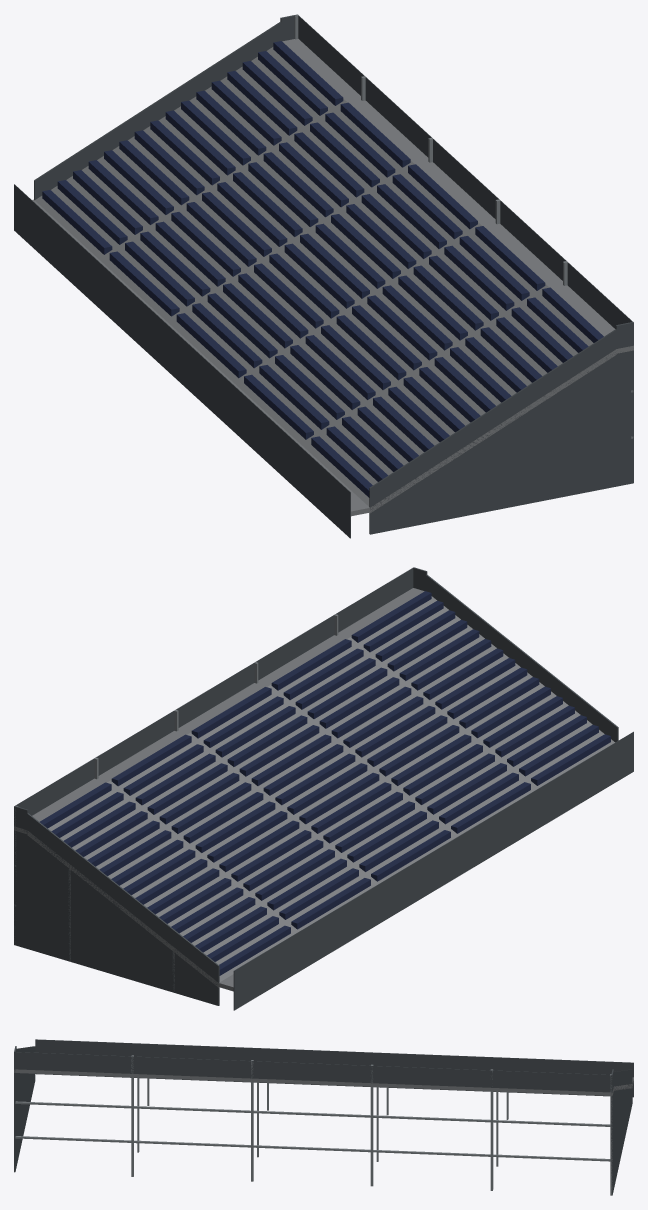
Rendered from sil_stand_copse_d.glb.
The picture shows the model from 3 angles, top to bottom: view 1: azimuth 30°, elevation 25°; view 2: azimuth 150°, elevation 25°; view 3: azimuth 270°, elevation 25°; orthographic projection. The views are drawn at different scales.
Visible parts, largest first — view 1: silverstone-copse-d; view 2: silverstone-copse-d; view 3: silverstone-copse-d.
Boxes of the visible parts, left/top/right/bottom form: silverstone-copse-d: left=14, top=14, right=633, bottom=538; silverstone-copse-d: left=14, top=567, right=633, bottom=1010; silverstone-copse-d: left=14, top=1039, right=633, bottom=1195.
Bounding box in the file's own units: 18.13 × 8.36 × 39.05.
